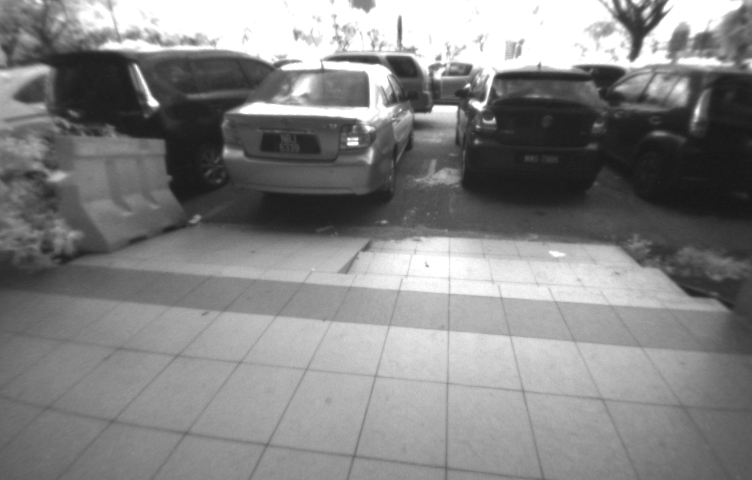down_steps: (341, 225, 744, 324)
mixed_gradient: (293, 229, 400, 293)
